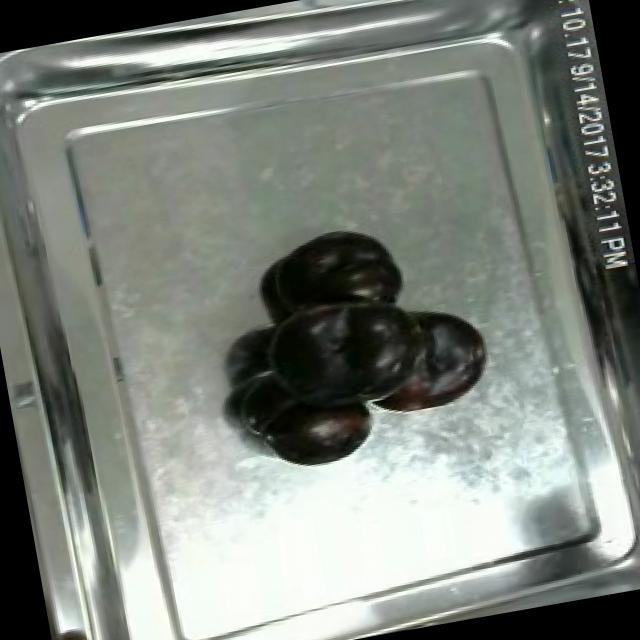Fruit: (253, 215, 412, 325), (252, 384, 386, 476), (50, 623, 119, 640)
